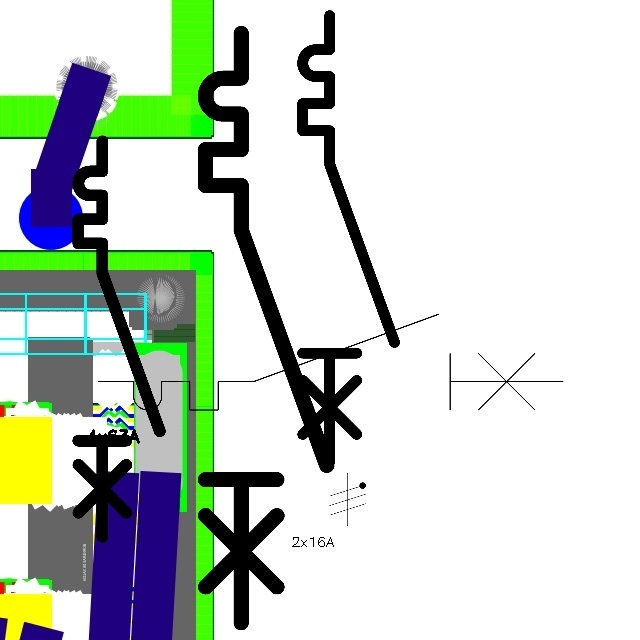interruptor_termomagnetico: (190, 18, 342, 638), (86, 302, 575, 422), (291, 4, 406, 473), (68, 131, 169, 547)
